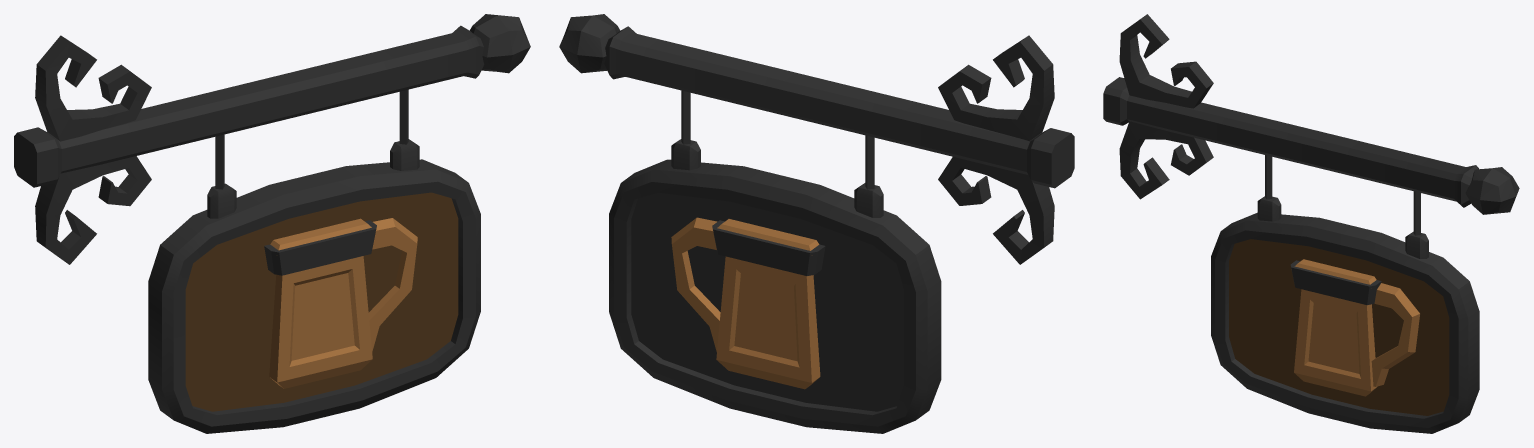
File: SM_sign_tavern.fbx
3 renders of one model, left to right at view 1: azimuth 30°, elevation 25°; view 2: azimuth 150°, elevation 25°; view 3: azimuth 330°, elevation 25°, orthographic. The views are drawn at different scales.
Parts seen in each view (by area): view 1: Line016; view 2: Line016; view 3: Line016.
Boxes of the visible parts, x1,y1,x2,y2 form: Line016: [14, 14, 530, 433]; Line016: [559, 14, 1074, 433]; Line016: [1103, 14, 1519, 433].
Bounding box in the file's own units: 70.47 × 58.57 × 7.83.
